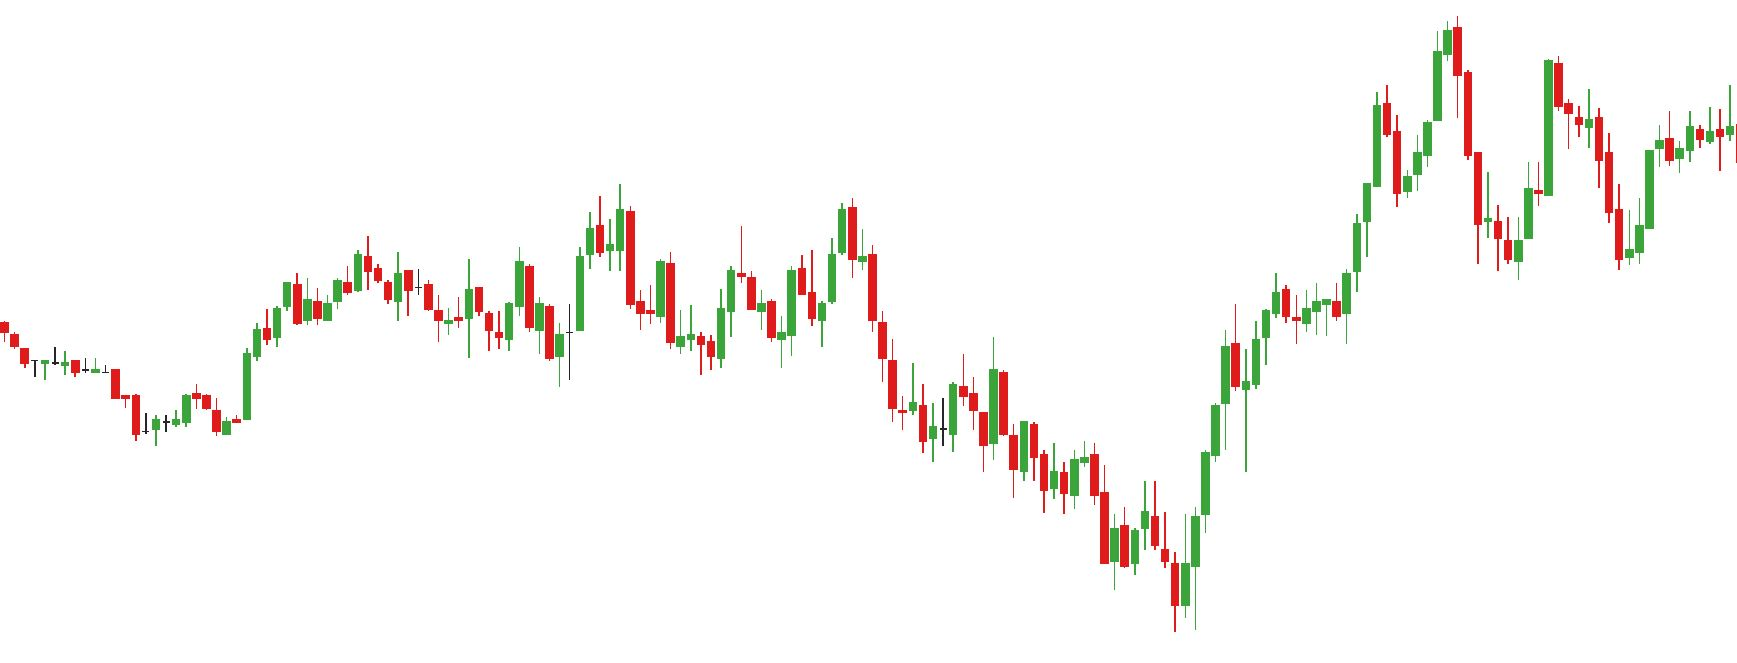sell: (737, 200, 859, 306), (1371, 18, 1463, 126)
